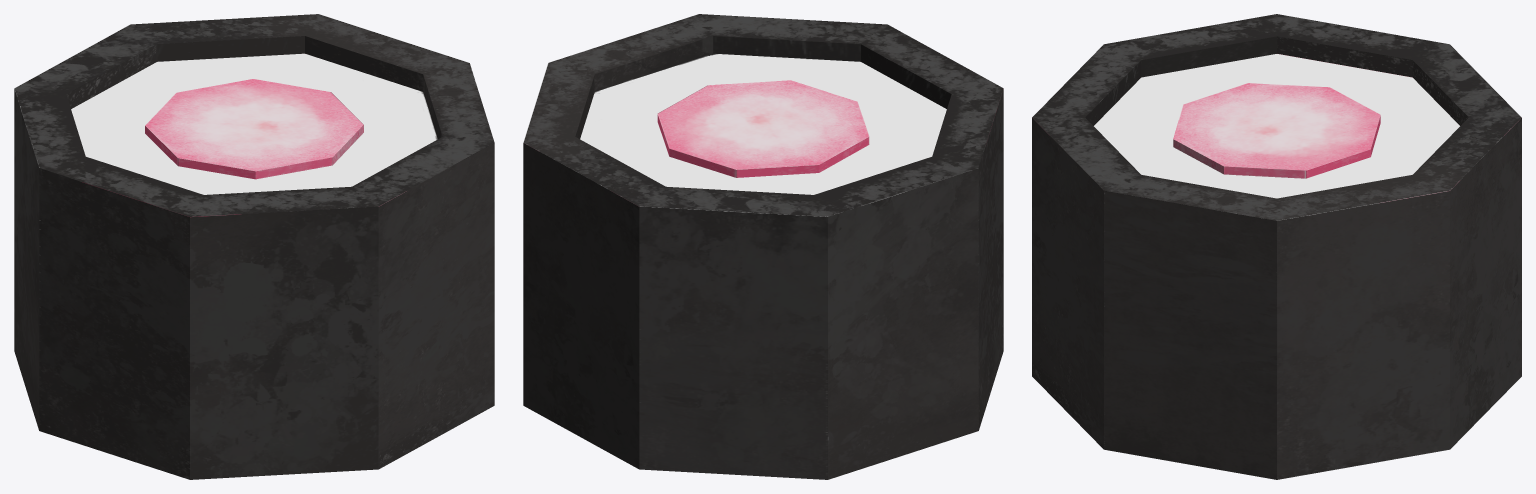
Rendered from maki_surimi.fbx.
The picture shows the model from 3 angles, left to right: view 1: azimuth 30°, elevation 25°; view 2: azimuth 150°, elevation 25°; view 3: azimuth 270°, elevation 25°; orthographic projection.
Parts seen in each view (by area): view 1: maki.001; view 2: maki.001; view 3: maki.001.
Boxes of the visible parts, x1,y1,x2,y2 form: maki.001: (14,14,494,479); maki.001: (523,14,1003,479); maki.001: (1032,14,1521,479).
Size of the model in its own units: 64.71 by 37.78 by 64.71.
